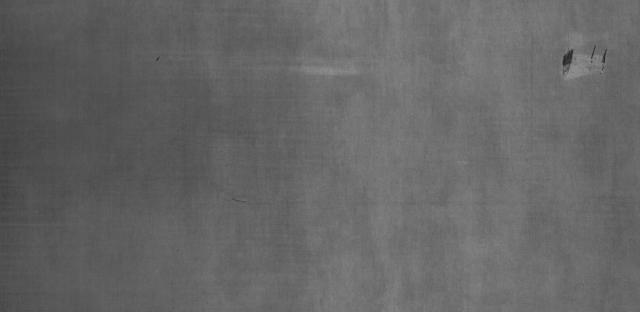rolled_pit: (545, 38, 623, 88)
